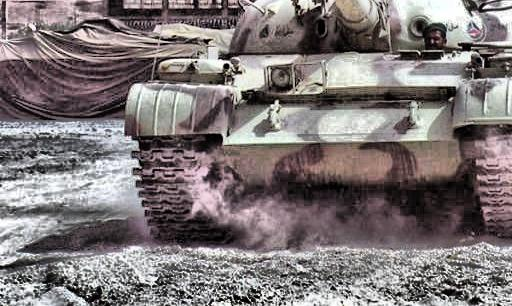tanks: (127, 1, 512, 241)
